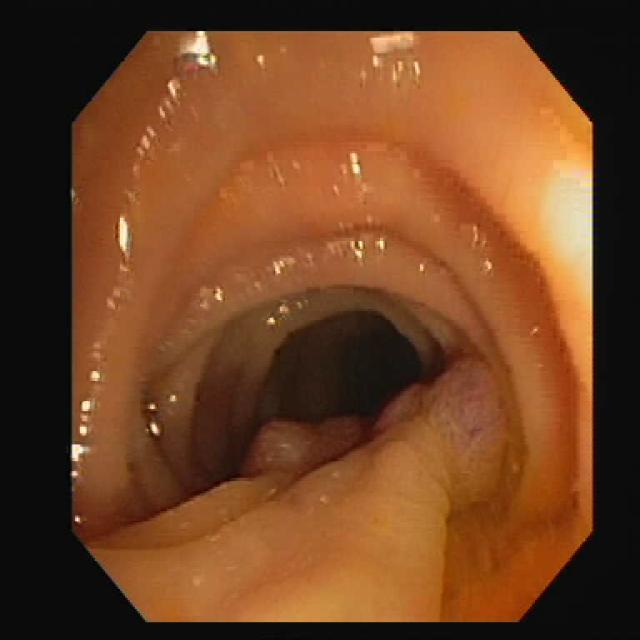tumor: (380, 360, 507, 498), (242, 418, 368, 476)
